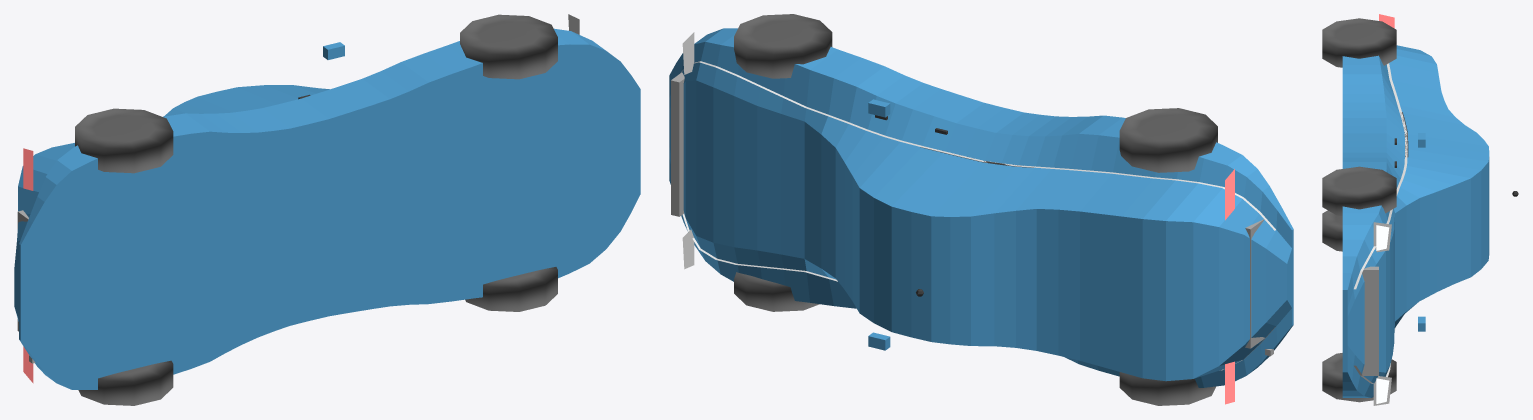
Rendered from Vehicle_4_2.glb.
The picture shows the model from 3 angles, left to right: view 1: azimuth 30°, elevation 25°; view 2: azimuth 150°, elevation 25°; view 3: azimuth 270°, elevation 25°; orthographic projection. The views are drawn at different scales.
Parts seen in each view (by area): view 1: Body, Wheel_-1.35_0.78, Wheel_1.35_0.78, Wheel_-1.35_-0.78, Wheel_1.35_-0.78; view 2: Body, Wheel_-1.35_0.78, Wheel_1.35_0.78, Wheel_-1.35_-0.78, Wheel_1.35_-0.78, BumperF, Chrome_R; view 3: Body, Wheel_1.35_0.78, Wheel_-1.35_0.78, BumperF, Wheel_1.35_-0.78, Wheel_-1.35_-0.78, Chrome_R, HL_0.65, HL_-0.65, HLBezel_0.65, HLBezel_-0.65.
Boxes of the visible parts, bbox=[...] form: Body: bbox=[14, 28, 640, 389]; Wheel_-1.35_0.78: bbox=[75, 108, 173, 173]; Wheel_1.35_0.78: bbox=[460, 14, 557, 79]; Wheel_-1.35_-0.78: bbox=[78, 360, 173, 405]; Wheel_1.35_-0.78: bbox=[465, 267, 557, 311]; Body: bbox=[669, 28, 1293, 387]; Wheel_-1.35_0.78: bbox=[1119, 108, 1217, 172]; Wheel_1.35_0.78: bbox=[734, 14, 832, 78]; Wheel_-1.35_-0.78: bbox=[1119, 372, 1216, 405]; Wheel_1.35_-0.78: bbox=[734, 272, 819, 311]; BumperF: bbox=[671, 72, 684, 216]; Chrome_R: bbox=[680, 61, 1275, 230]; Body: bbox=[1342, 45, 1489, 397]; Wheel_1.35_0.78: bbox=[1322, 166, 1396, 215]; Wheel_-1.35_0.78: bbox=[1322, 18, 1396, 67]; BumperF: bbox=[1362, 266, 1378, 375]; Wheel_1.35_-0.78: bbox=[1322, 353, 1396, 402]; Wheel_-1.35_-0.78: bbox=[1322, 210, 1342, 251]; Chrome_R: bbox=[1354, 63, 1407, 289]; HL_0.65: bbox=[1376, 225, 1389, 250]; HL_-0.65: bbox=[1376, 378, 1389, 403]; HLBezel_0.65: bbox=[1373, 222, 1391, 252]; HLBezel_-0.65: bbox=[1373, 376, 1391, 405].
Bounding box in the file's own units: 4.35 × 1.73 × 1.51.
